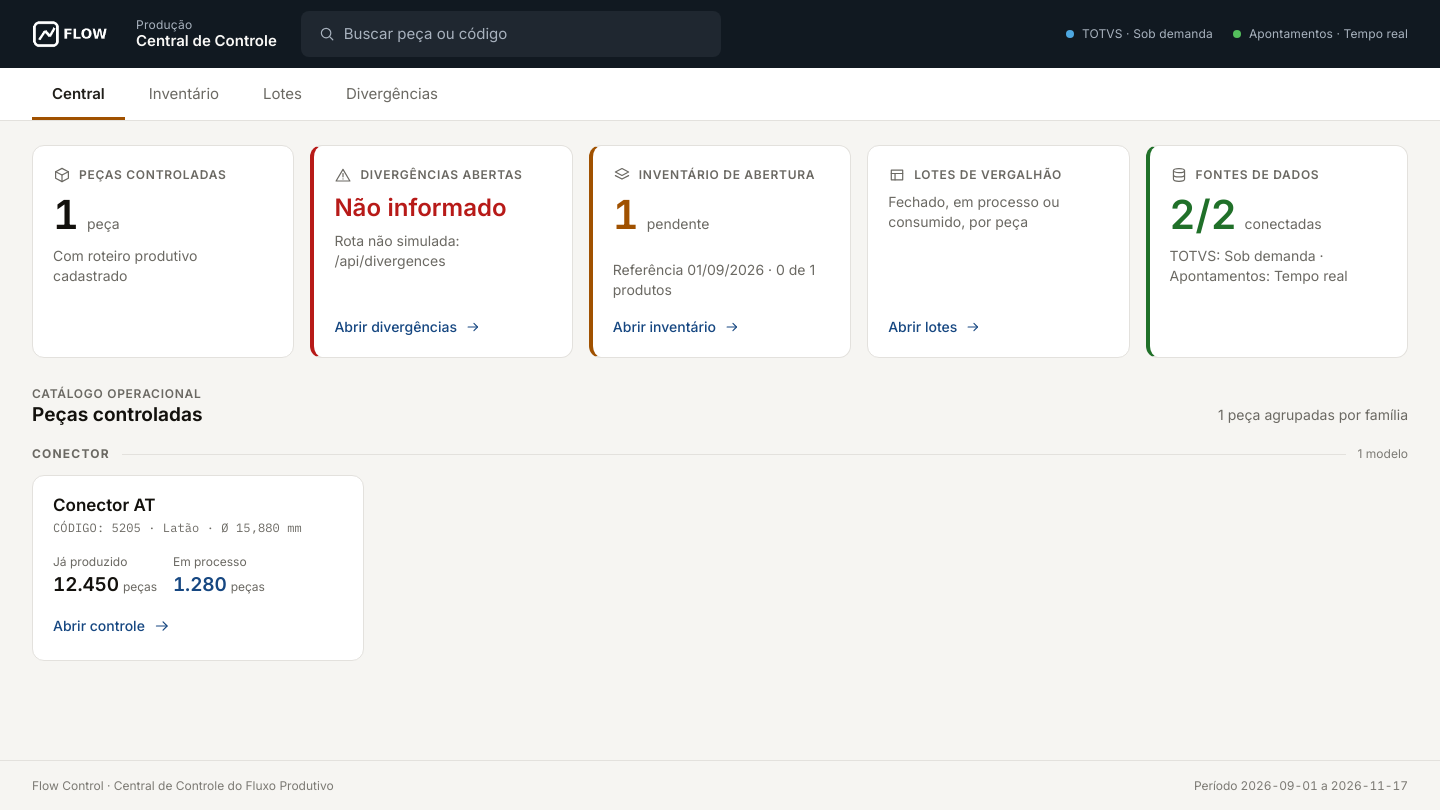
Test: Central de Controle › navega para o inventário e para os lotes pela navegação principal
Expected: the button with aria-label "Abrir controle de Conector AT" is shown, [32,475,364,661]
Click the button "Inventário": [184, 94] box [129,68,239,120]
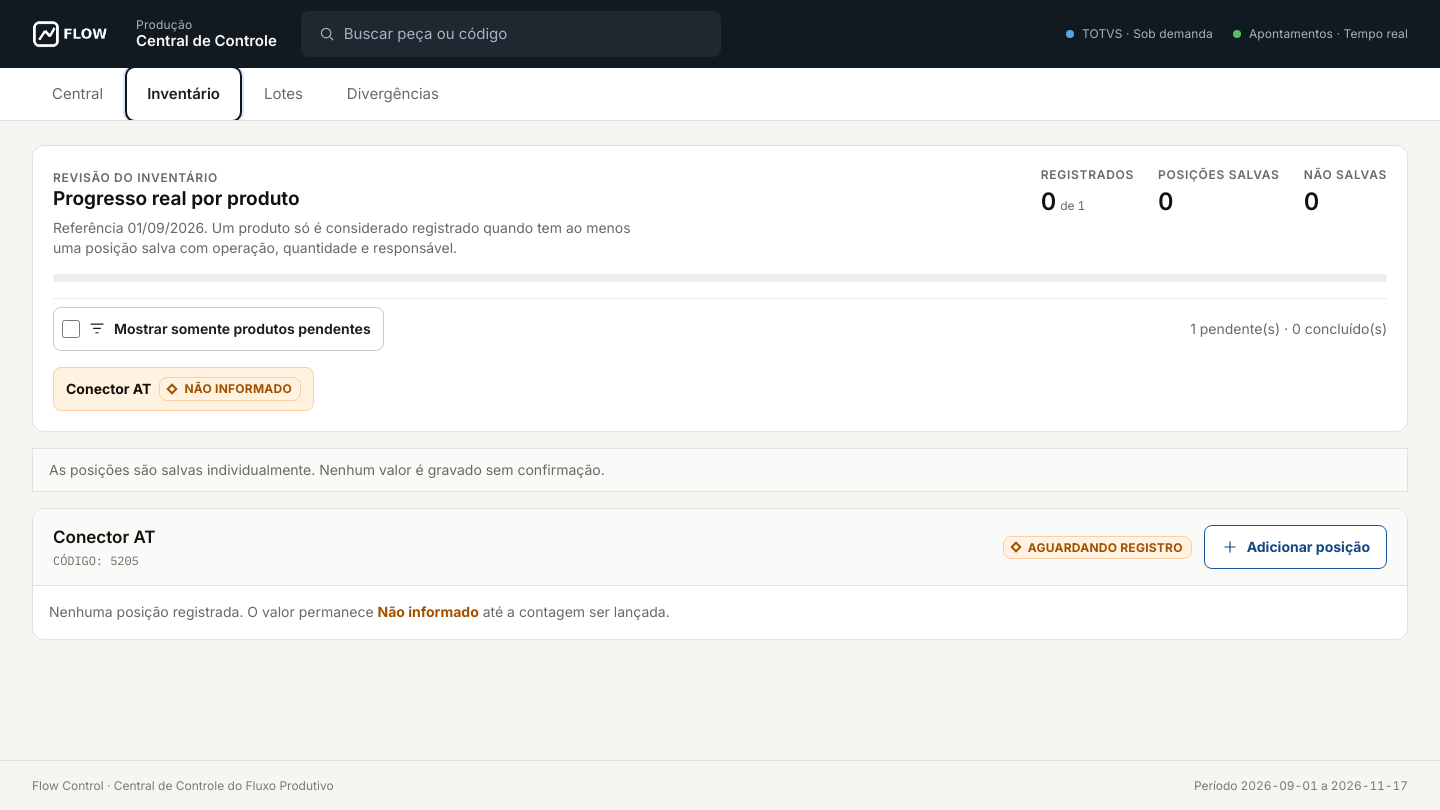
Result: the heading "Progresso real por produto" is shown at [53,187,300,210]
Click the button "Lotes": [283, 94] box [244,68,323,120]
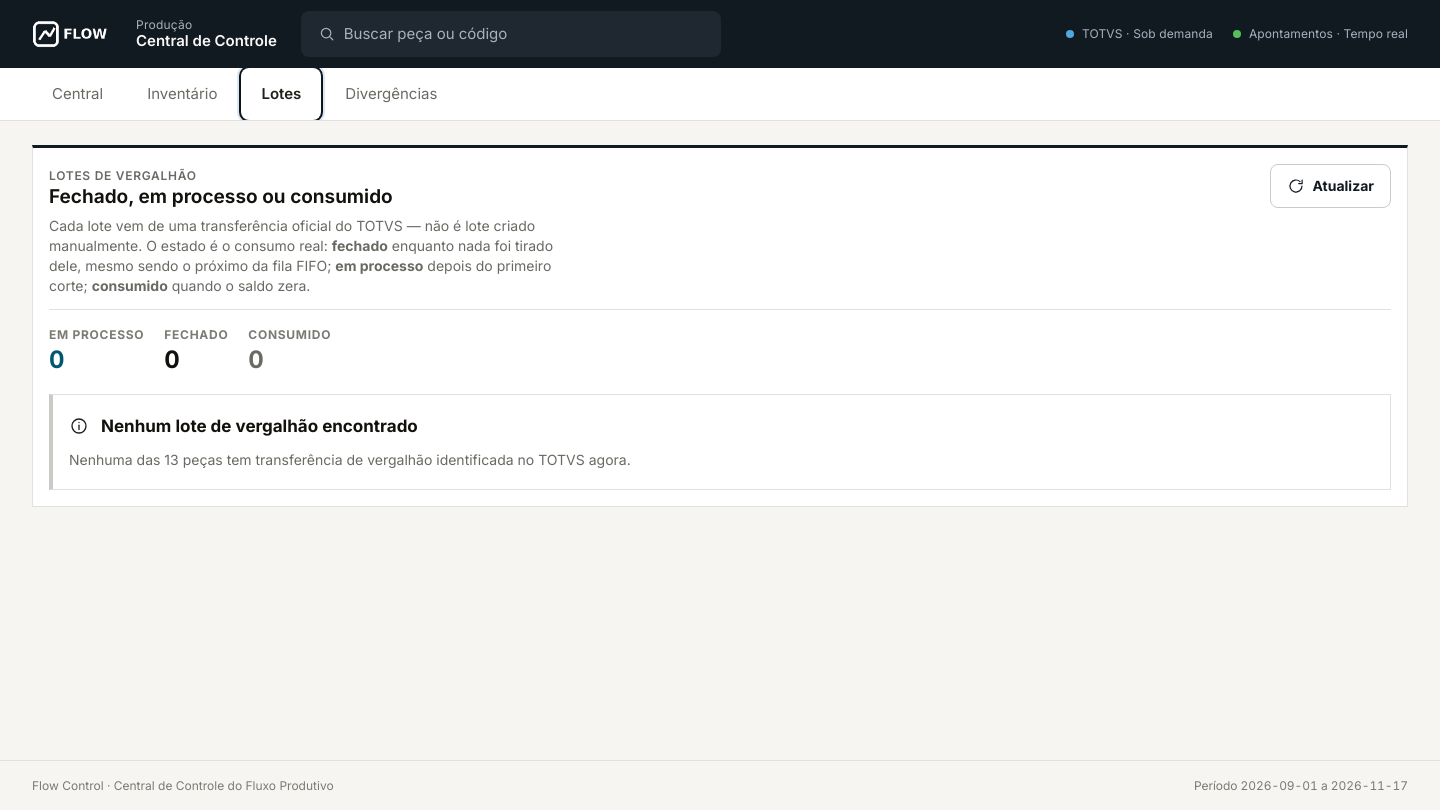
Result: the heading "Fechado, em processo ou consumido" is shown at [49,185,393,208]
